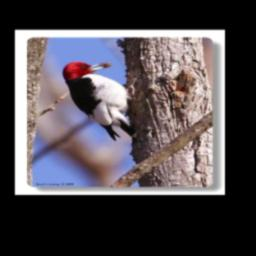Woodpecker: (62, 61, 138, 140)
